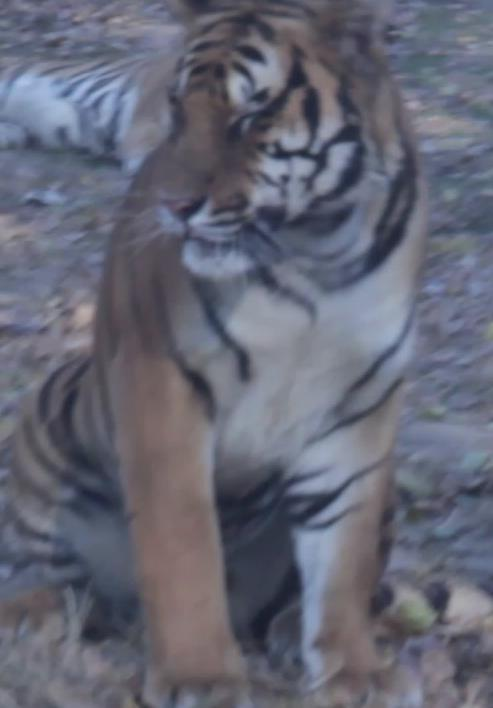tiger: (4, 13, 427, 708)
